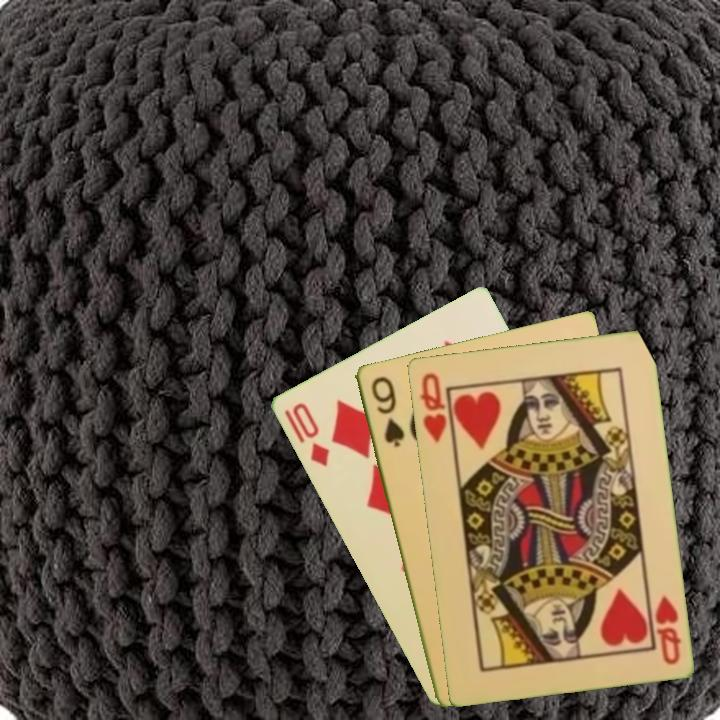10d: (288, 398, 332, 470)
9s: (367, 372, 407, 450)
Qh: (416, 369, 450, 446), (650, 591, 684, 667)
